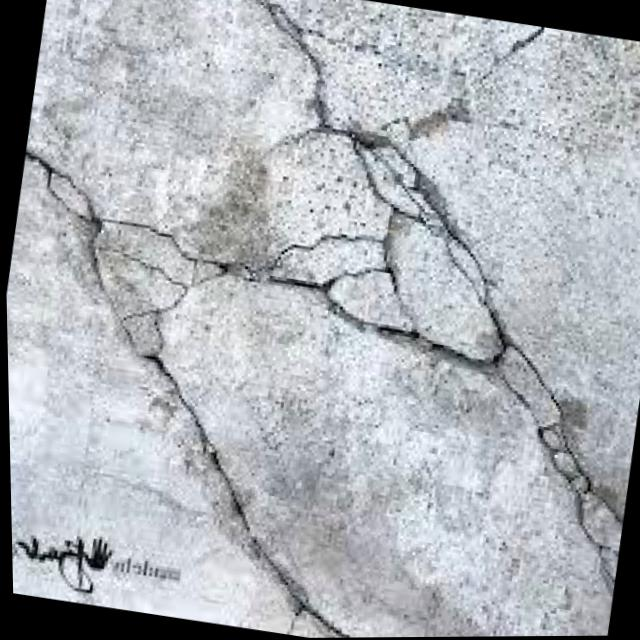Crack: (266, 90, 566, 437), (79, 361, 328, 584), (35, 184, 175, 284)
